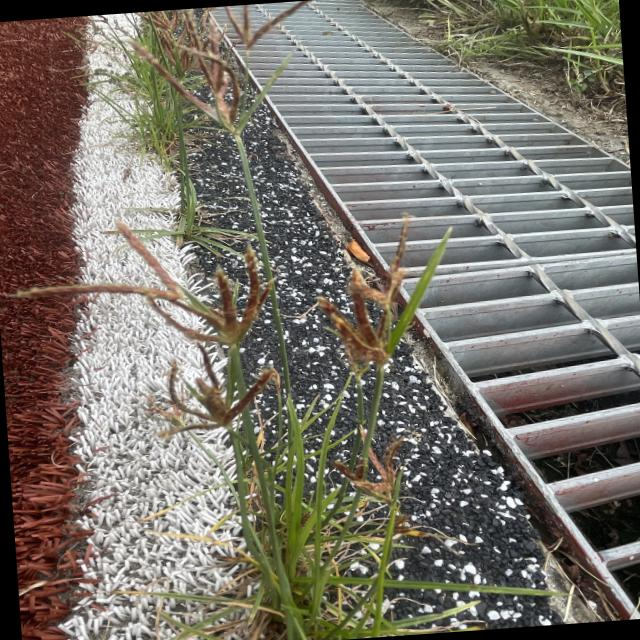cyperus: (0, 0, 468, 561), (5, 202, 282, 444), (124, 0, 339, 168), (300, 198, 464, 399), (316, 414, 438, 518)
